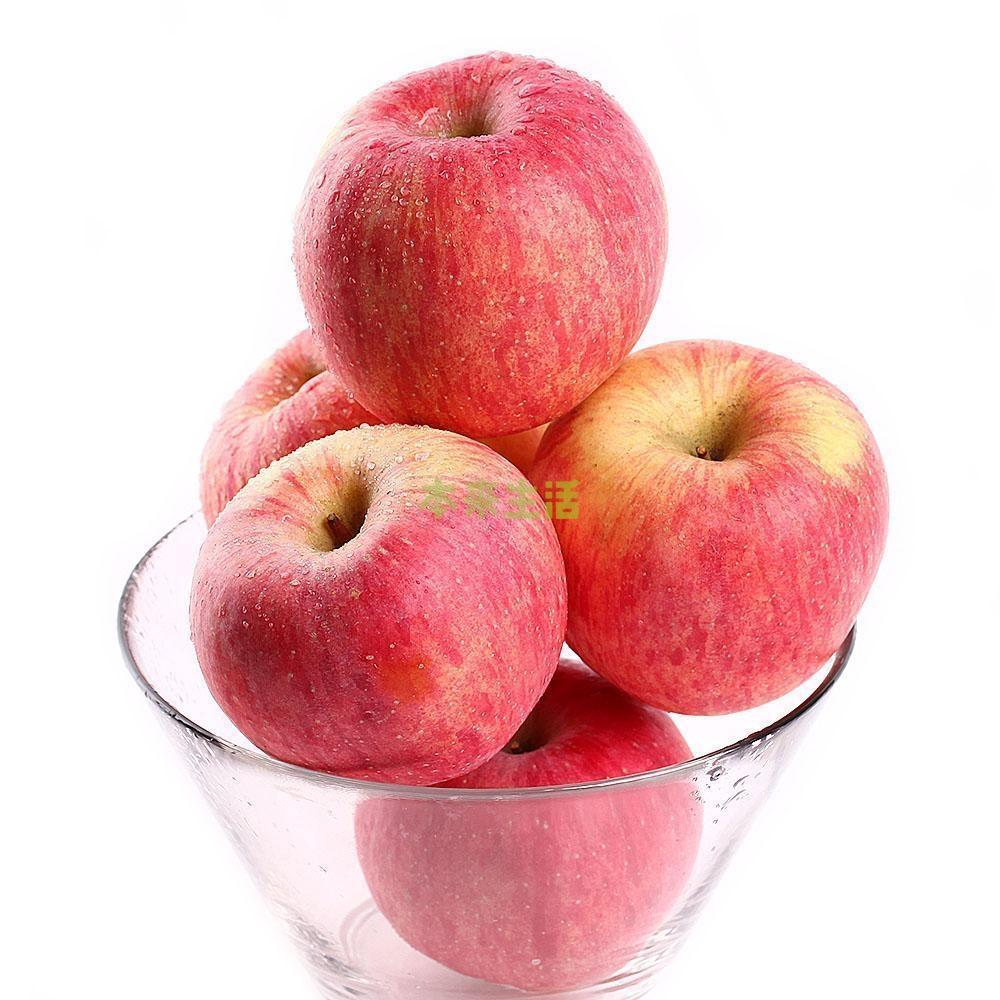apple: (187, 429, 578, 791), (285, 63, 665, 435), (536, 346, 888, 723)
